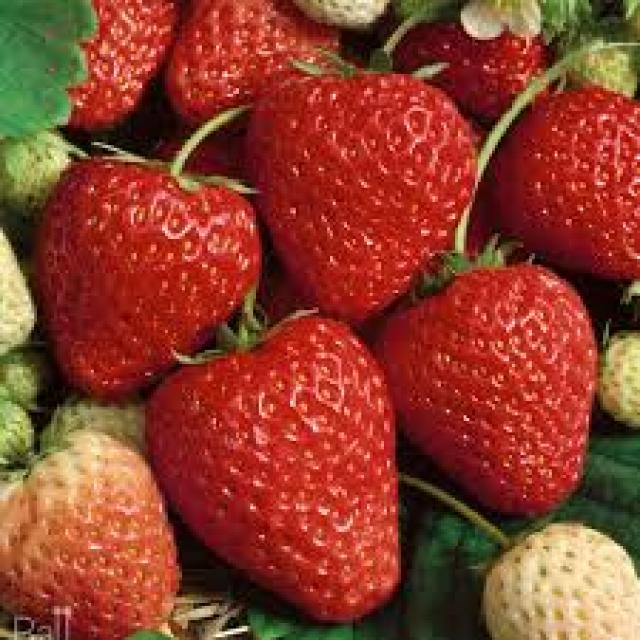strawberry: (140, 305, 417, 640), (224, 62, 466, 317), (373, 270, 599, 515), (42, 124, 252, 386), (0, 410, 176, 640)
